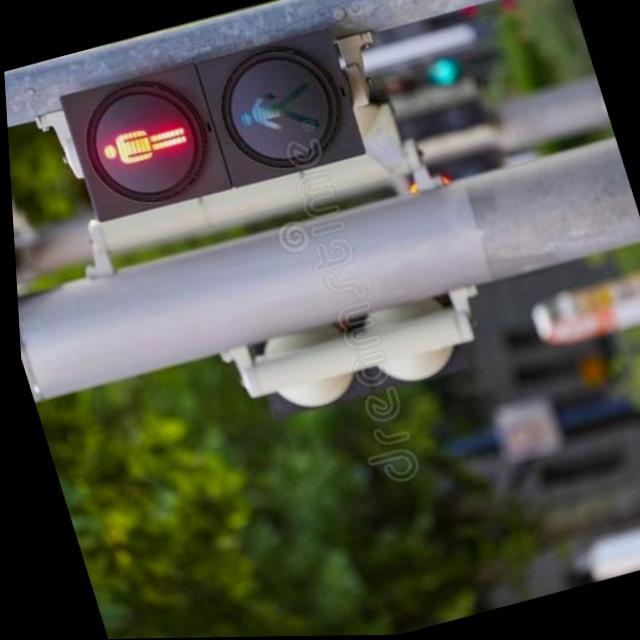red_light: (59, 64, 229, 218)
